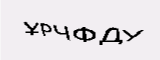Б: (34, 27, 52, 49)
В: (88, 24, 103, 46)
О: (103, 22, 122, 47)
С: (74, 27, 90, 49)
Ш: (51, 31, 75, 49)
